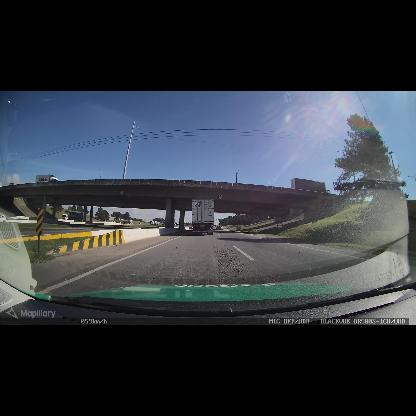O-MP: (36, 208, 44, 236)
R-15: (277, 222, 283, 229), (218, 195, 223, 199)
